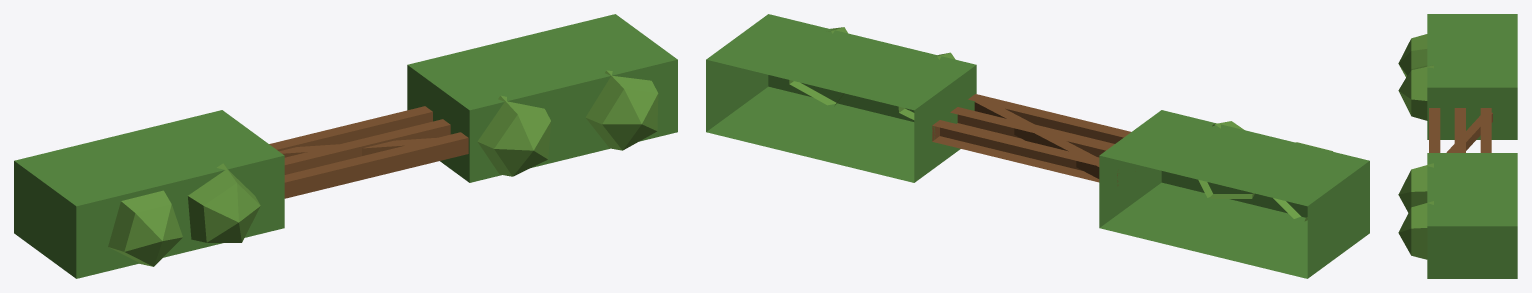
The picture shows the model from 3 angles, left to right: view 1: azimuth 30°, elevation 25°; view 2: azimuth 150°, elevation 25°; view 3: azimuth 270°, elevation 25°; orthographic projection. The views are drawn at different scales.
Visible parts, largest first — view 1: fence_2; view 2: fence_2; view 3: fence_2.
Part boxes in pixels (x1,y1,x2,y2): fence_2: (14, 14, 677, 278); fence_2: (706, 14, 1369, 278); fence_2: (1398, 14, 1517, 278).
Bounding box in the file's own units: 15.6 × 1.97 × 3.7.
